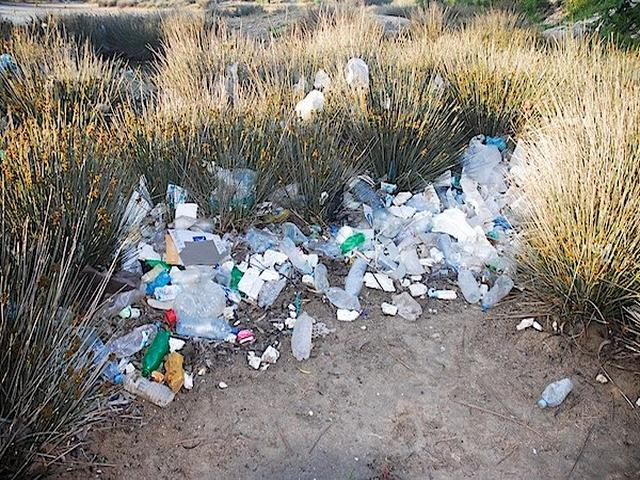garbage: (132, 210, 288, 357), (338, 189, 496, 291)
